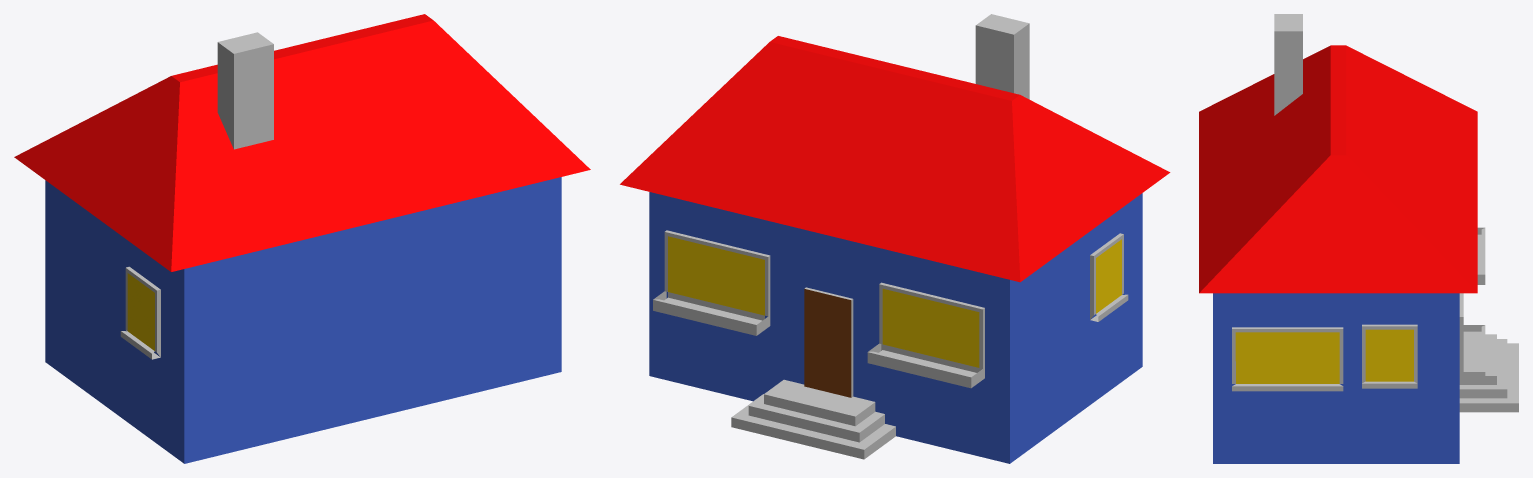
Rendered from house.obj.
3 views of the same model, side by side, from view 1: azimuth 30°, elevation 25°; view 2: azimuth 150°, elevation 25°; view 3: azimuth 270°, elevation 25° (orthographic). The views are drawn at different scales.
Visible parts, largest first — view 1: Mesh1 Model, Mesh4 Model, Mesh5 Model; view 2: Mesh1 Model, Mesh2 Model, Mesh4 Model, Mesh5 Model; view 3: Mesh1 Model, Mesh3 Model, Mesh4 Model, Mesh2 Model.
Boxes of the visible parts, left/top/right/bottom form: Mesh1 Model: left=14, top=14, right=590, bottom=463; Mesh4 Model: left=217, top=32, right=273, bottom=149; Mesh5 Model: left=120, top=266, right=160, bottom=359; Mesh1 Model: left=620, top=36, right=1170, bottom=463; Mesh2 Model: left=653, top=230, right=770, bottom=335; Mesh4 Model: left=975, top=14, right=1029, bottom=99; Mesh5 Model: left=1090, top=233, right=1128, bottom=321; Mesh1 Model: left=1199, top=45, right=1518, bottom=463; Mesh3 Model: left=1232, top=327, right=1343, bottom=391; Mesh4 Model: left=1274, top=14, right=1302, bottom=115; Mesh2 Model: left=1459, top=293, right=1485, bottom=382.
Size of the model in its own units: 13.99 by 11.6 by 10.41.
